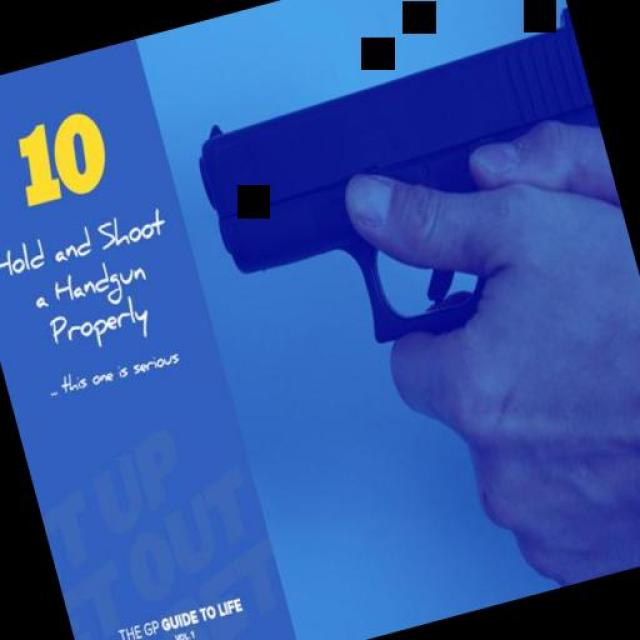gun: (179, 0, 639, 396)
